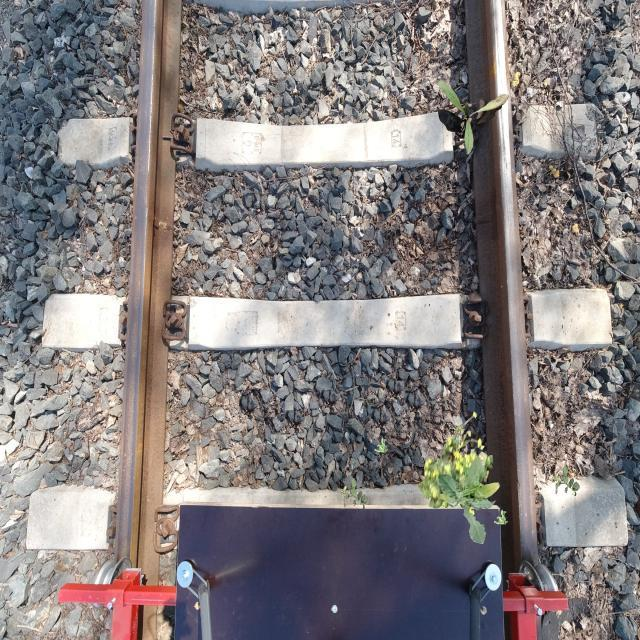Plant: (418, 412, 493, 517), (438, 451, 500, 544), (438, 80, 510, 154), (552, 465, 580, 496), (341, 478, 368, 508), (494, 509, 508, 524), (375, 437, 389, 452)
